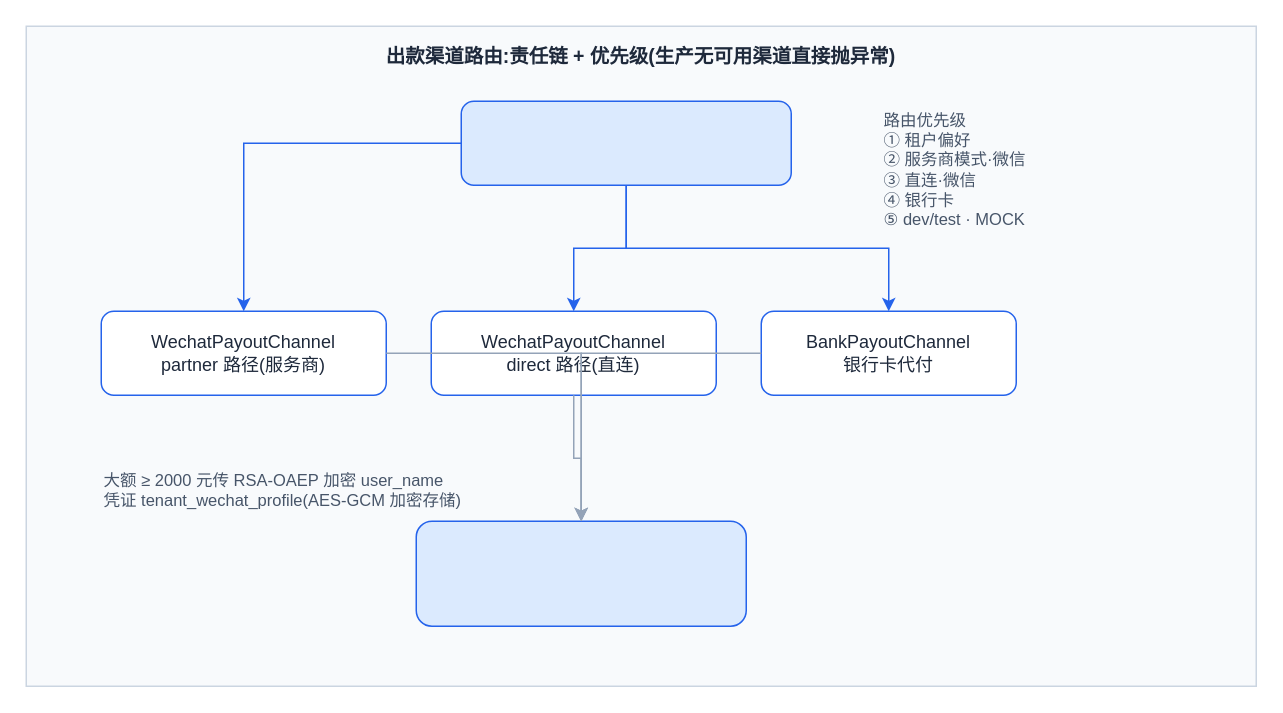
This 1283x713 diagram has some shape labels left out. Here are the shapes that lost their labels. From the top down, the centre of each, then its label:
[625,142]: PayoutChannelRouter AbstractPayoutChannel 接口
[580,573]: payout_channel_log request / response / 状态 每次出款落审计
